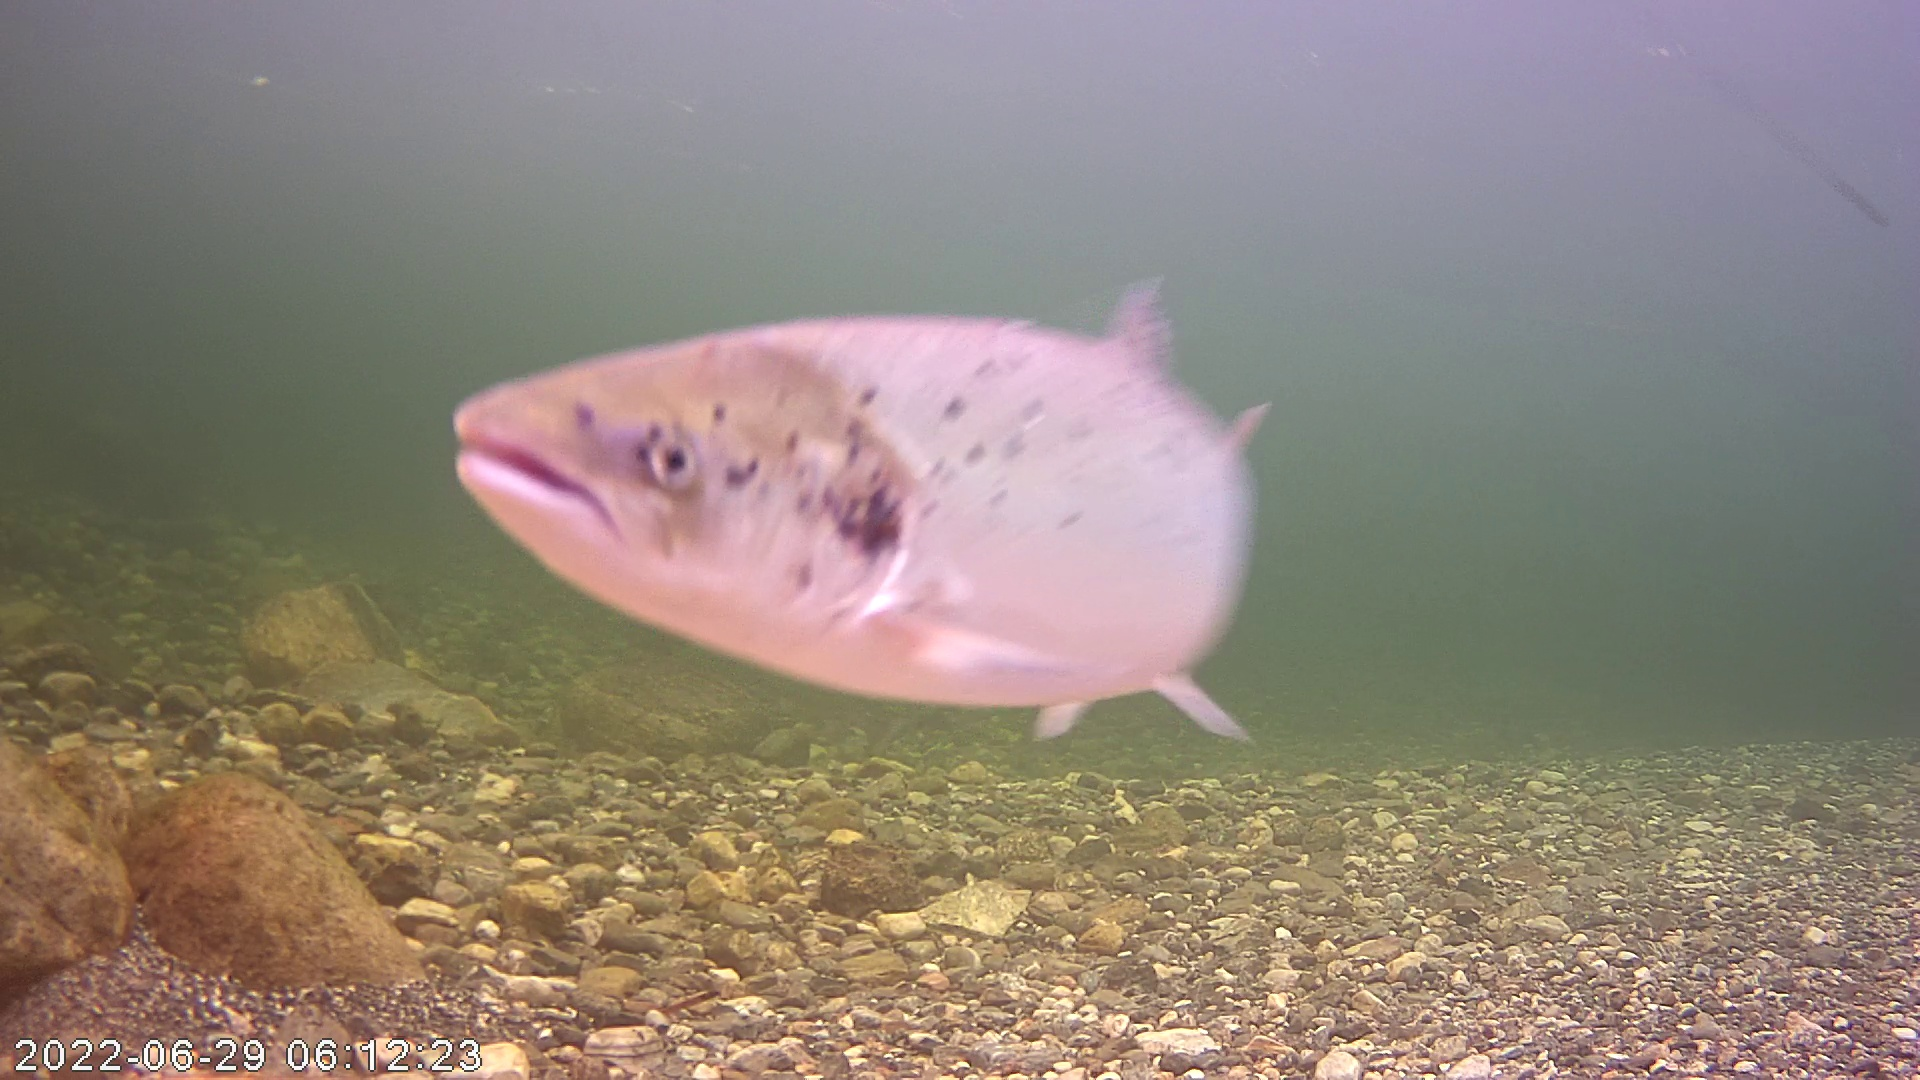salmon: (444, 208, 1280, 719)
